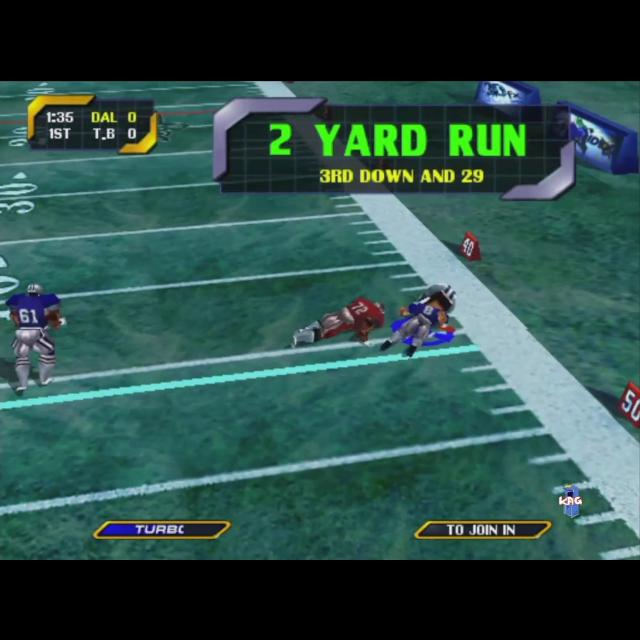player: (6, 282, 66, 390), (379, 283, 456, 357), (292, 296, 386, 346)
